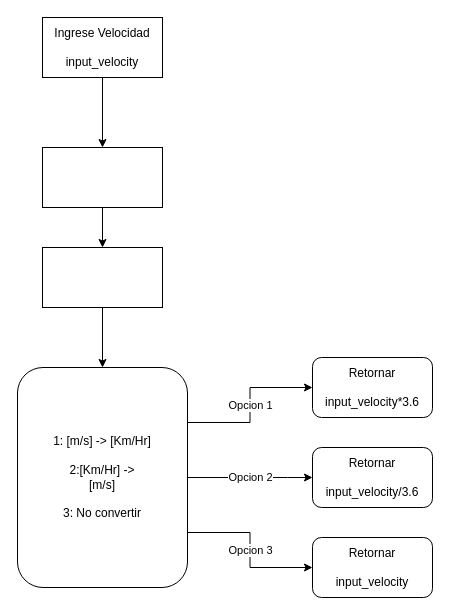
The diagram is 450 pixels wide and 615 high, and some of its shapes have lost their labels. The shapes that lost their labels are listed below. From the top down, each one's centre as x and y in pixels, then its label:
At (x=102, y=177): "Ingresar unidad de input_velocity input_units".
At (x=102, y=277): "Ingresar unidad de ourput_velocity output_units".
